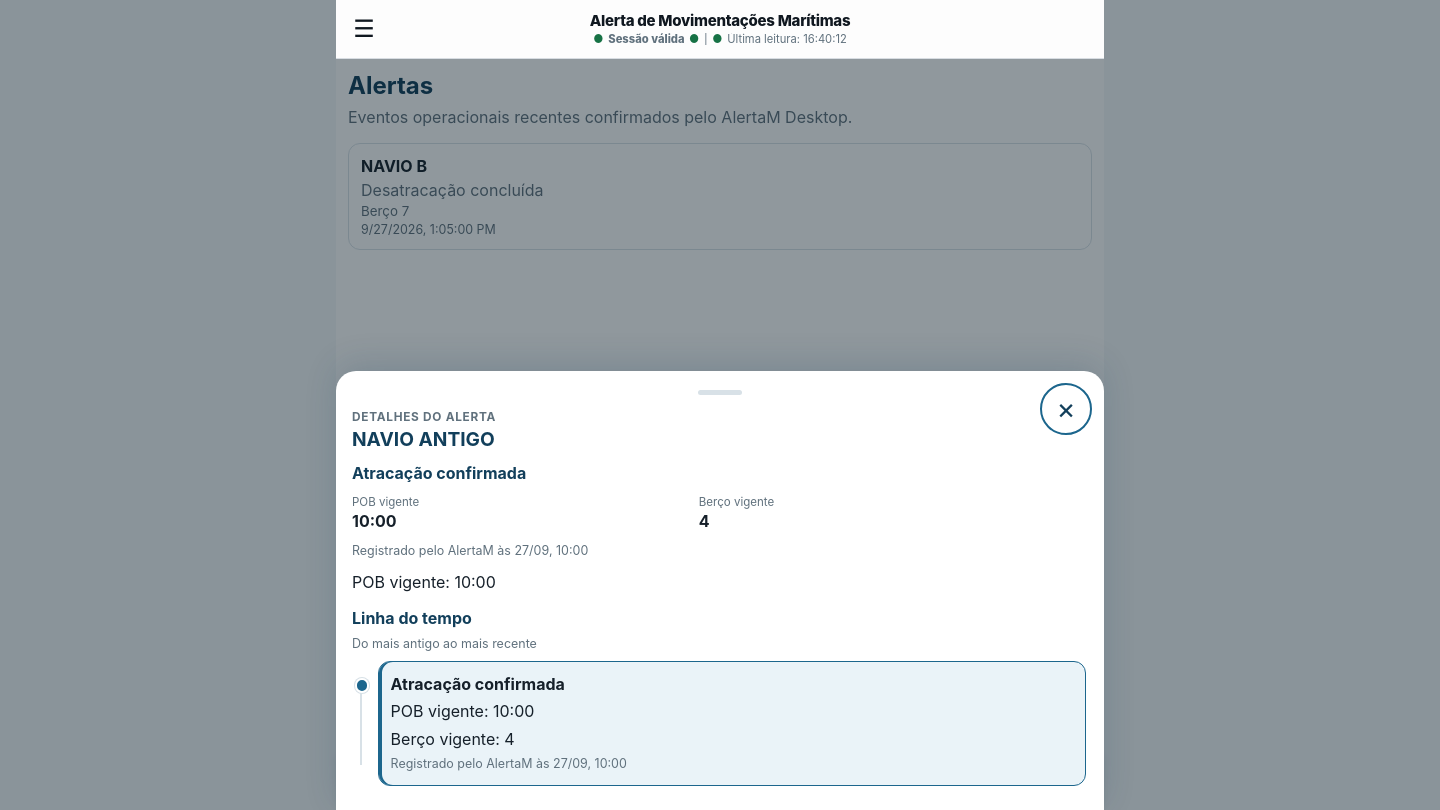
alert_deep_link_uses_direct_detail_without_paging_feed_and_close_keeps_page
Expected: the dialog "Detalhes do alerta" is shown, left=336, top=371, right=1104, bottom=809
Expected: the heading "NAVIO ANTIGO" is shown, left=352, top=427, right=495, bottom=451
What coordinates should you click on to do the following:
click the button named "Fechar detalhes do alerta"
I would click on:
 (1066, 409)
Its box is left=1044, top=387, right=1088, bottom=431.
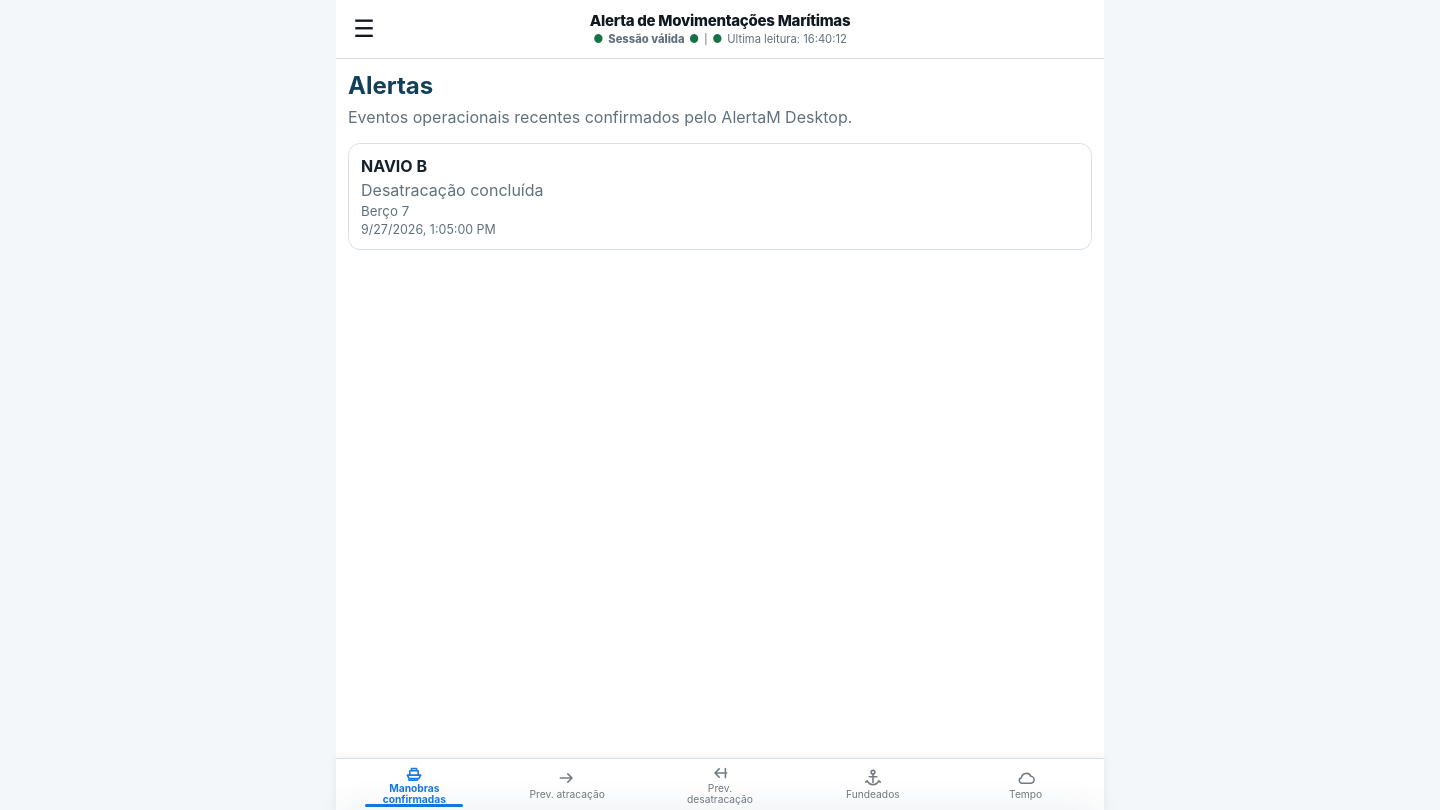
Expected: the heading "Alertas" is shown, left=348, top=71, right=433, bottom=100
Result: the text "Detalhes do alerta" is gone
